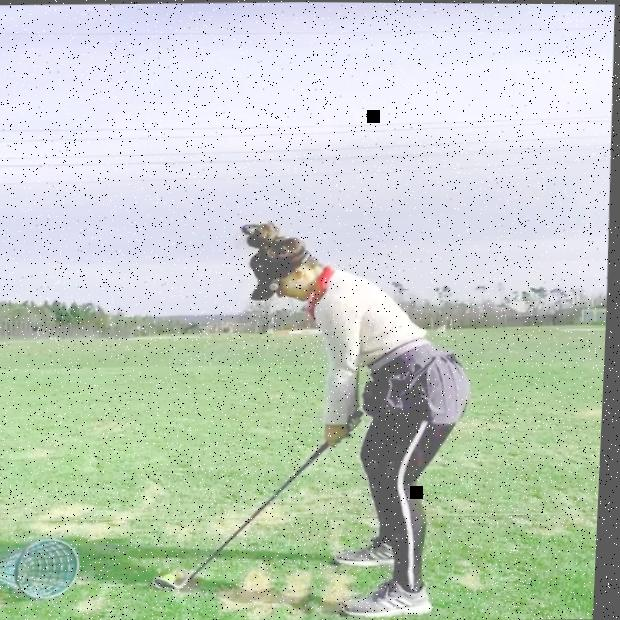ClubHead: (155, 577, 182, 590)
GolfBall: (168, 574, 180, 582)
